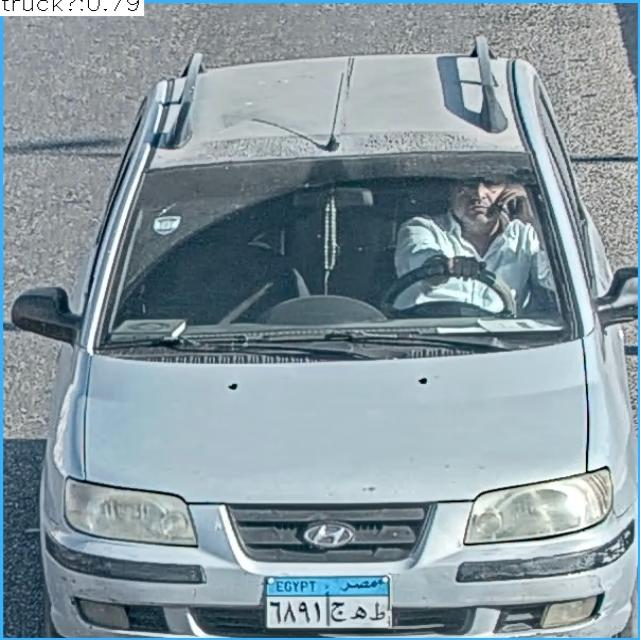windshield: (100, 156, 570, 342)
